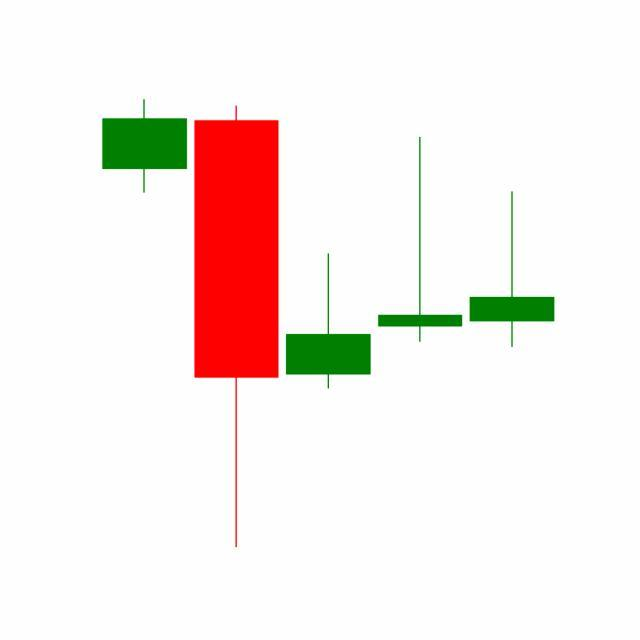Up-Down Gap Side-by-side White Lines: (280, 134, 555, 392)
